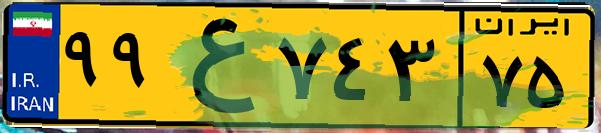3: (385, 28, 445, 110)
4: (330, 28, 385, 110)
5: (525, 38, 570, 115)
7: (270, 28, 330, 110), (475, 38, 525, 113)
9: (57, 26, 110, 100), (110, 28, 158, 98)
ع: (158, 12, 270, 120)
